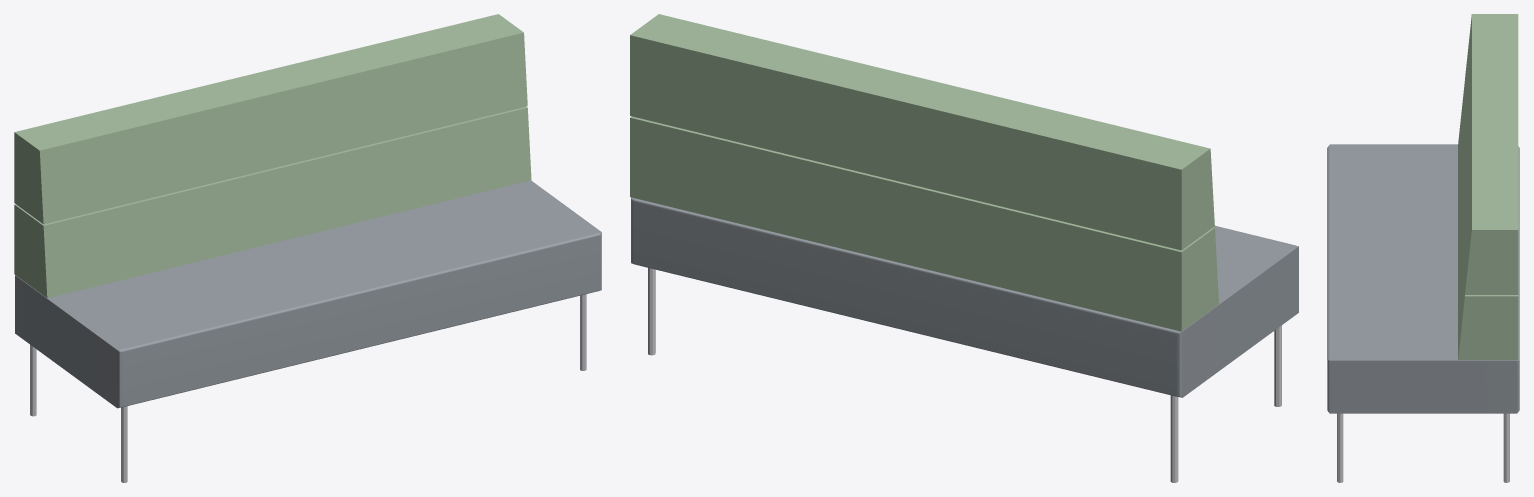
The model's file is newbookarchive_sofa1.fbx.
The picture shows the model from 3 angles, left to right: view 1: azimuth 30°, elevation 25°; view 2: azimuth 150°, elevation 25°; view 3: azimuth 270°, elevation 25°; orthographic projection. The views are drawn at different scales.
Parts seen in each view (by area): view 1: newbookarchive_sofa1; view 2: newbookarchive_sofa1; view 3: newbookarchive_sofa1.
Part boxes in pixels (x1,y1,x2,y2): newbookarchive_sofa1: (14,14,601,482); newbookarchive_sofa1: (630,14,1298,482); newbookarchive_sofa1: (1327,14,1519,482).
Size of the model in its own units: 0.0106 by 0.00587 by 0.00398.
Materials: 1 (1 with a texture image).
